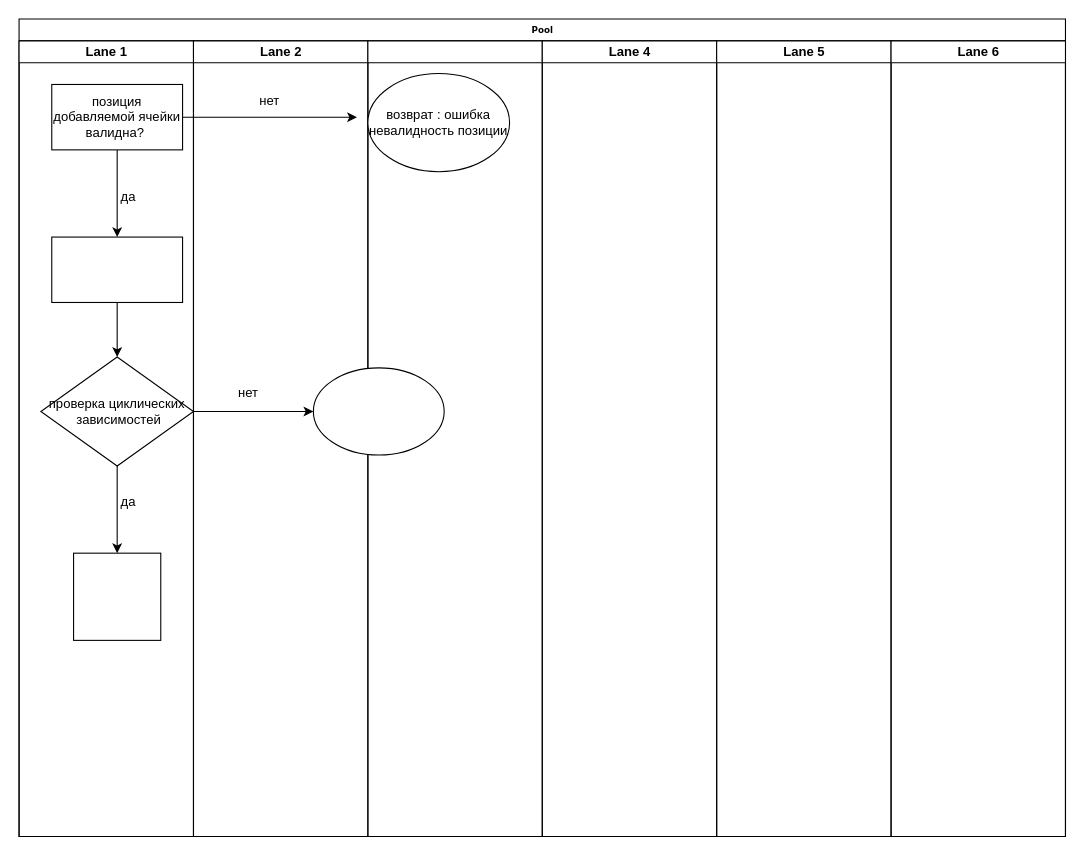
This 1085x856 diagram has some shape labels left out. Each missing label, with the box of its shape:
Lane 3: (367, 40, 542, 837)
Добавить ячейку в таблицу, обновить граф зависимостей: (51, 236, 183, 302)
очистить ячейки и КЭШ: (72, 552, 161, 640)
продолжение работы: (312, 367, 444, 455)
